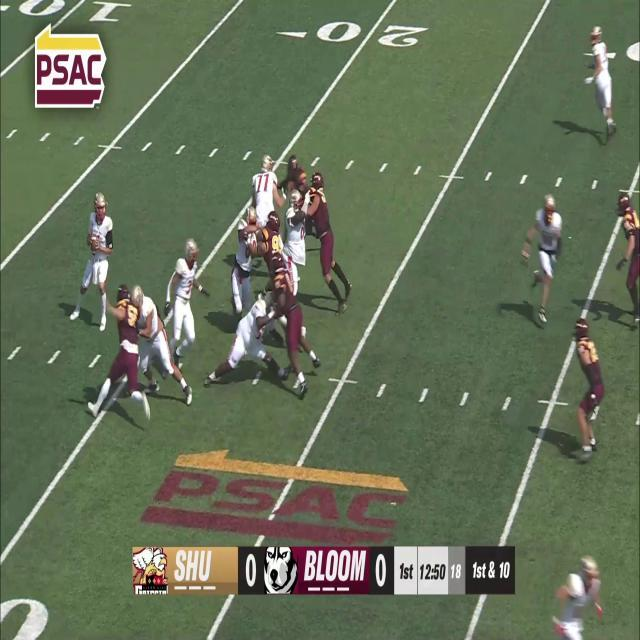football: (88, 234, 100, 256)
